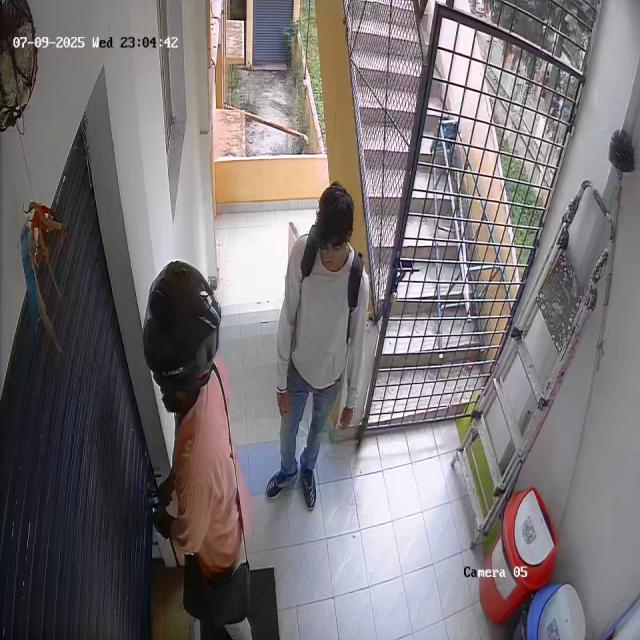person: (124, 254, 243, 640), (267, 183, 367, 510)
